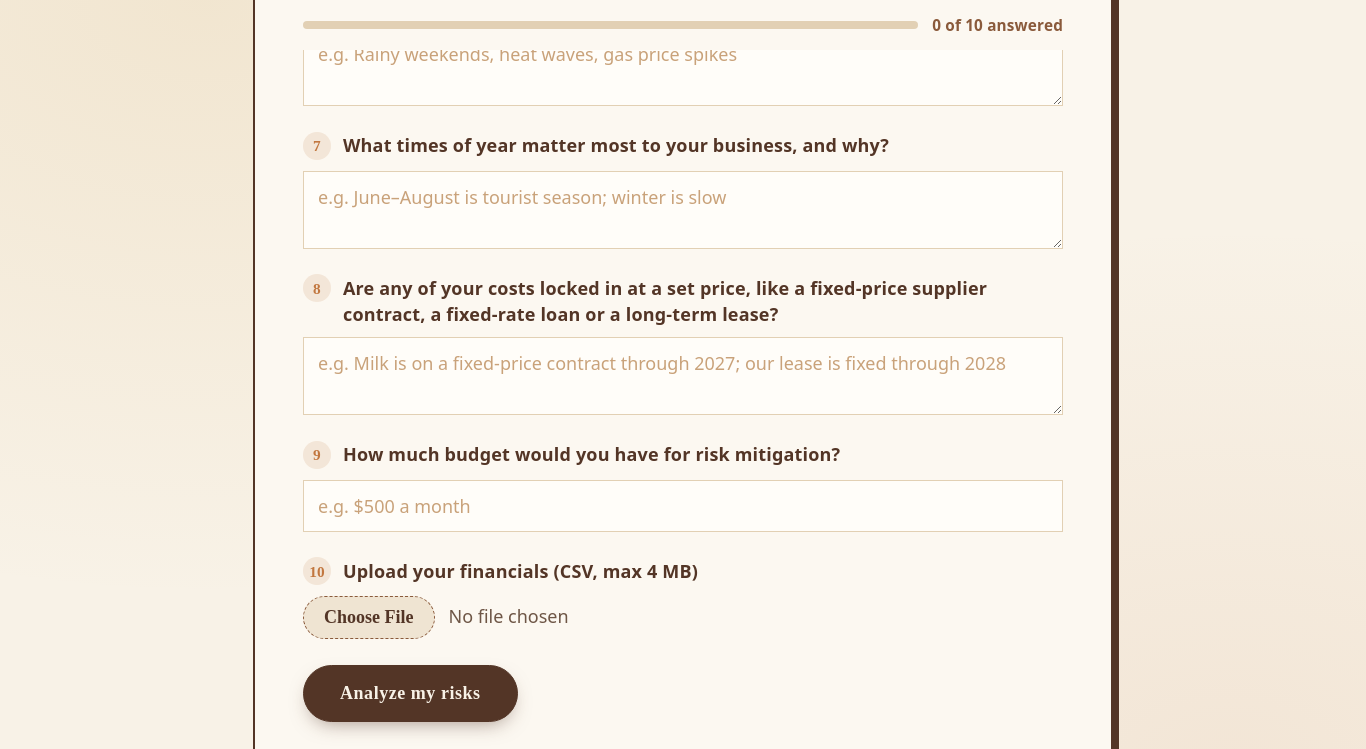
Test case: QuestionnairePage › scrolls the error into view, since it sits below all the questions
The width and height of the screenshot is (1366, 749).
(page scrolled)
Click the button "Analyze my risks": [410, 694] box [303,666,518,722]
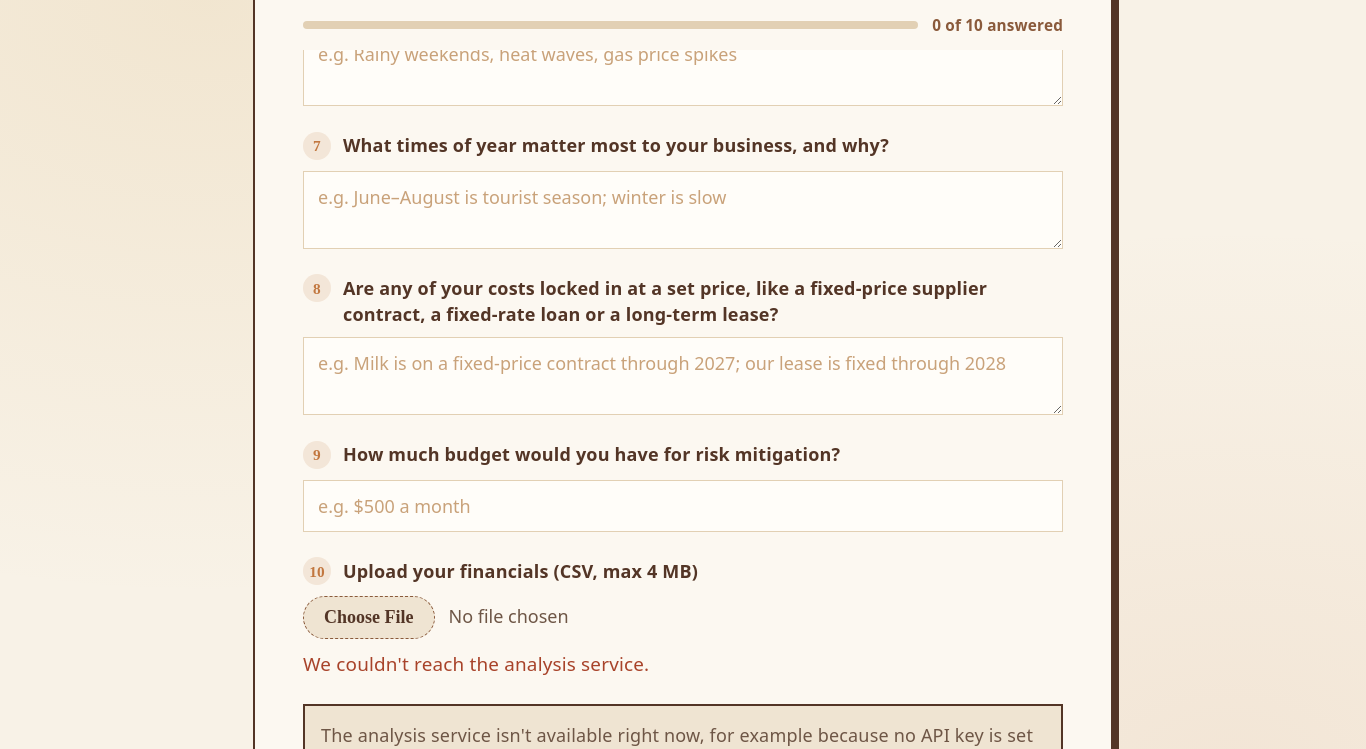
Expected: the message "We couldn't reach the analysis service." is shown, [303,652,649,678]
